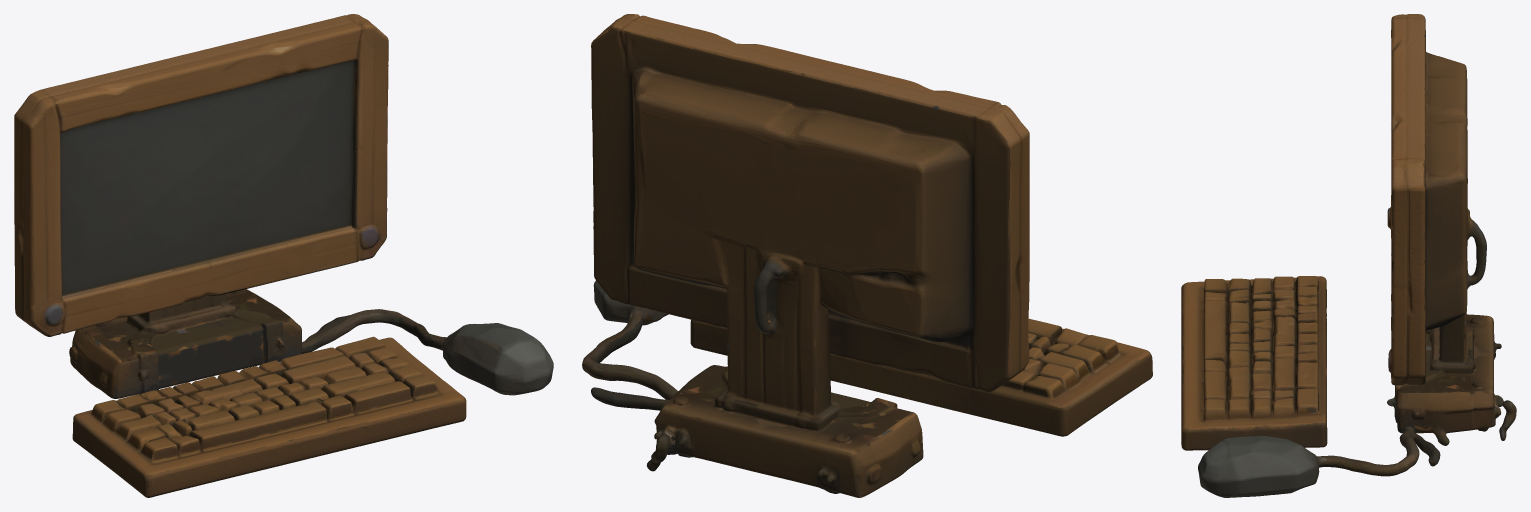
File: bilgisayar.glb
3 views of the same model, side by side, from view 1: azimuth 30°, elevation 25°; view 2: azimuth 150°, elevation 25°; view 3: azimuth 270°, elevation 25° (orthographic). The views are drawn at different scales.
Parts seen in each view (by area): view 1: world; view 2: world; view 3: world.
Boxes of the visible parts, x1=… form: world: x1=14, y1=14, x2=553, y2=497; world: x1=582, y1=14, x2=1152, y2=497; world: x1=1181, y1=14, x2=1516, y2=497.
Bounding box in the file's own units: 1.99 × 1.44 × 1.4.
Materials: 1 (1 with a texture image).
